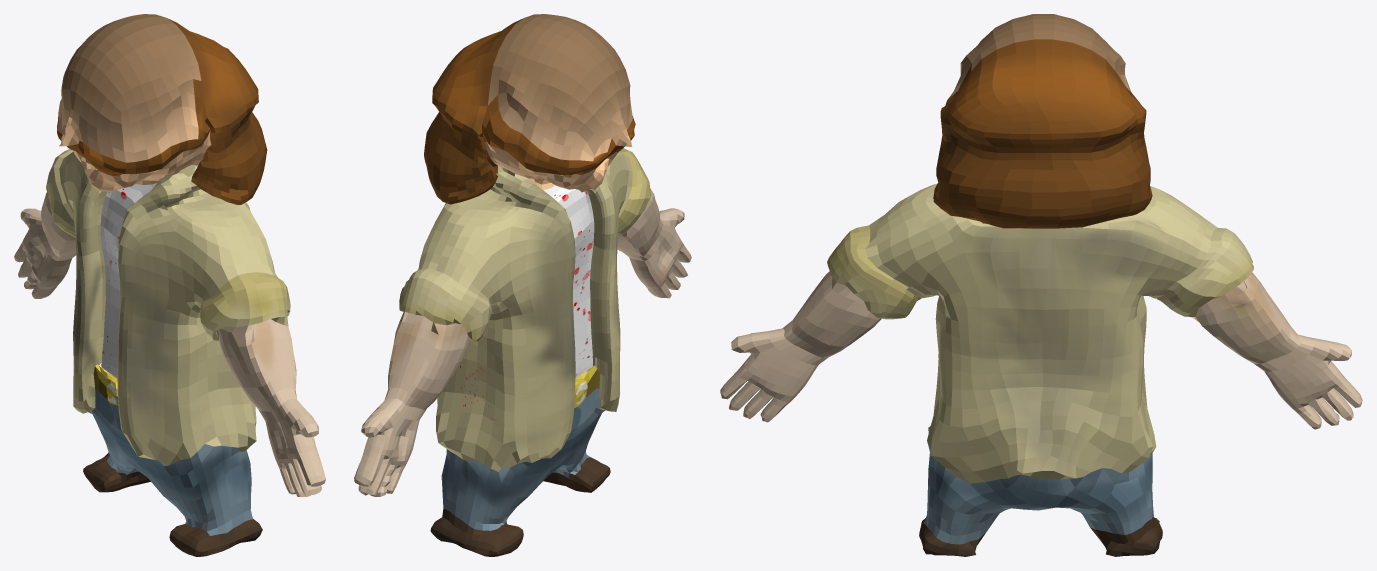
The model's file is bill_with_texture.fbx.
3 renders of one model, left to right at view 1: azimuth 30°, elevation 25°; view 2: azimuth 150°, elevation 25°; view 3: azimuth 270°, elevation 25°, orthographic. The views are drawn at different scales.
Parts seen in each view (by area): view 1: Retopo_belt.002; view 2: Retopo_belt.002; view 3: Retopo_belt.002.
Boxes of the visible parts, left/top/right/bottom form: Retopo_belt.002: left=14, top=14, right=325, bottom=556; Retopo_belt.002: left=354, top=14, right=691, bottom=556; Retopo_belt.002: left=720, top=14, right=1362, bottom=556.
Bounding box in the file's own units: 165 × 414 × 470.
1 material, 1 textured.
